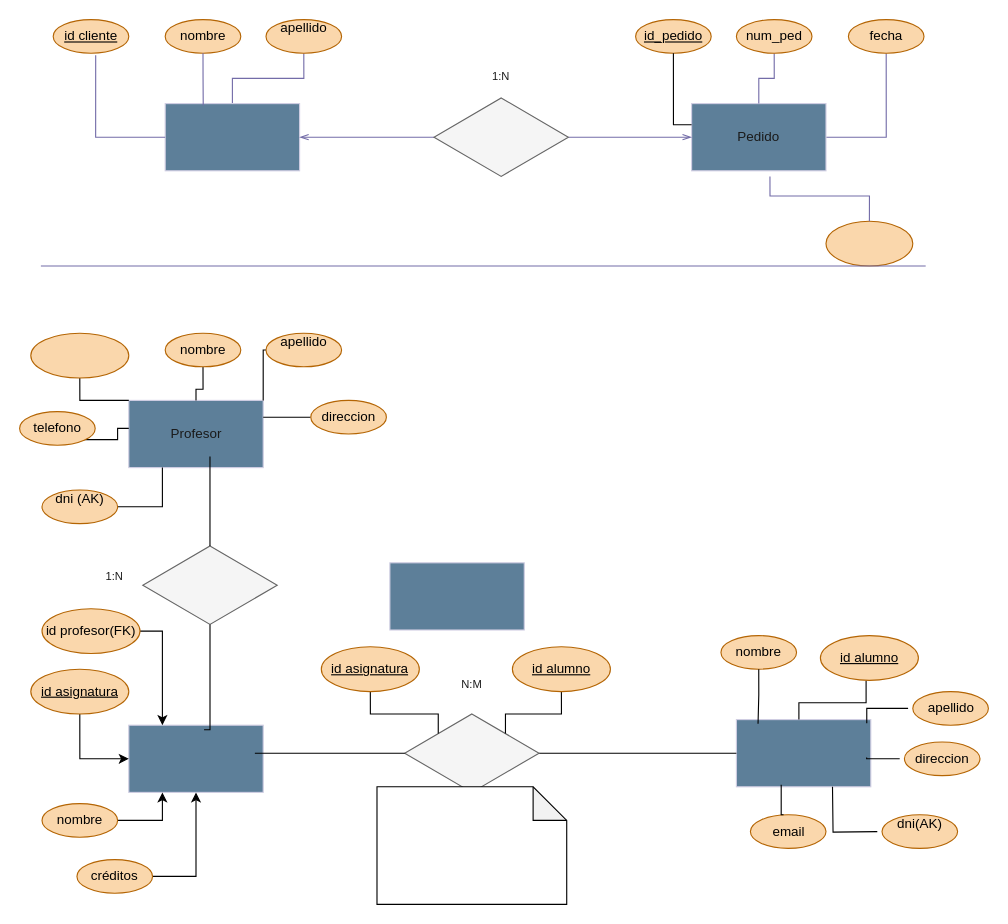
The diagram is 1008 pixels wide and 924 high, and some of its shapes have lost their labels. The centre of each missing label's shape, as x and y in pixels:
Alumno: point (803, 752)
Asignatura: point (195, 758)
Cliente: point (232, 136)
i d cliente(FK): point (869, 243)
id profesor: point (79, 355)
imparte: point (209, 584)
Matricula: point (456, 596)
realiza: point (500, 136)
se va a convertir en una tabla intermedia Matricula: point (471, 845)
se_matricula: point (471, 752)
